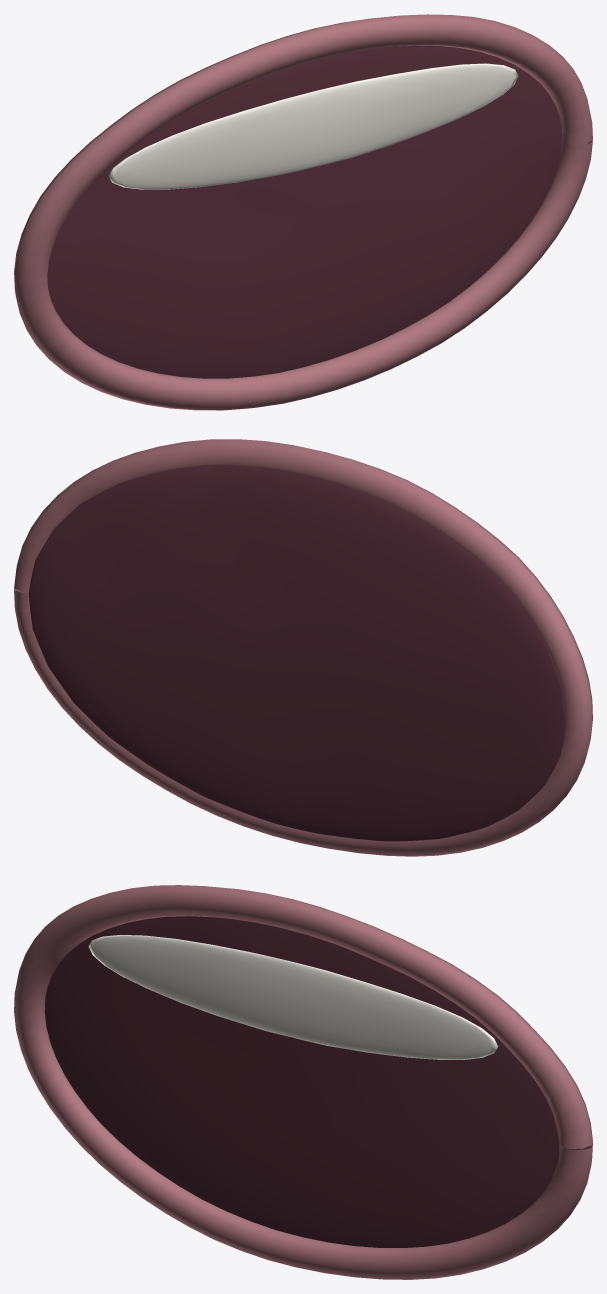
File: male_mouth_ref05_v5.glb
The picture shows the model from 3 angles, top to bottom: view 1: azimuth 30°, elevation 25°; view 2: azimuth 150°, elevation 25°; view 3: azimuth 330°, elevation 25°; orthographic projection.
Parts seen in each view (by area): view 1: Mouth_Inside, Mouth_Lip, Mouth_Teeth; view 2: Mouth_Inside, Mouth_Lip; view 3: Mouth_Inside, Mouth_Lip, Mouth_Teeth.
Part boxes in pixels (x1=…): Mouth_Inside: x1=47, y1=45, x2=562, y2=378; Mouth_Lip: x1=14, y1=14, x2=592, y2=410; Mouth_Teeth: x1=108, y1=63, x2=518, y2=189; Mouth_Inside: x1=28, y1=464, x2=566, y2=841; Mouth_Lip: x1=14, y1=439, x2=592, y2=856; Mouth_Inside: x1=44, y1=916, x2=580, y2=1247; Mouth_Lip: x1=14, y1=885, x2=592, y2=1279; Mouth_Teeth: x1=88, y1=935, x2=497, y2=1059.
Size of the model in its own units: 0.076 by 0.048 by 0.00757.
